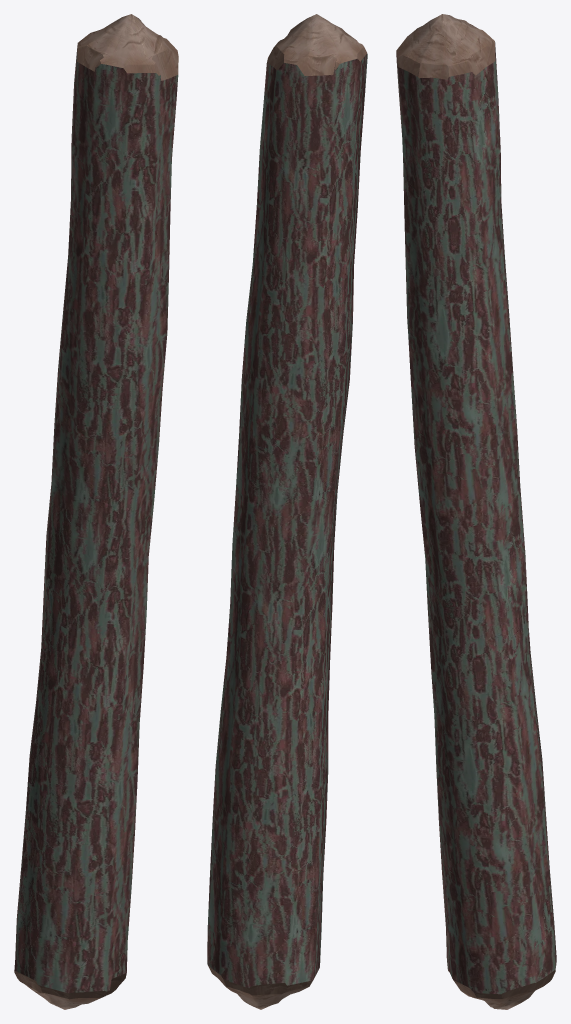
3 views of the same model, side by side, from view 1: azimuth 90°, elevation 25°; view 2: azimuth 150°, elevation 25°; view 3: azimuth 270°, elevation 25° (orthographic). The views are drawn at different scales.
Parts seen in each view (by area): view 1: SM_MapleTree_02_half_mid_LOD0; view 2: SM_MapleTree_02_half_mid_LOD0; view 3: SM_MapleTree_02_half_mid_LOD0.
Part boxes in pixels (bbox=[...]): SM_MapleTree_02_half_mid_LOD0: bbox=[14, 14, 178, 1009]; SM_MapleTree_02_half_mid_LOD0: bbox=[207, 14, 367, 1009]; SM_MapleTree_02_half_mid_LOD0: bbox=[396, 14, 556, 1009].
Size of the model in its own units: 0.6228 by 4.89 by 0.7226.
1 material, 1 textured.
